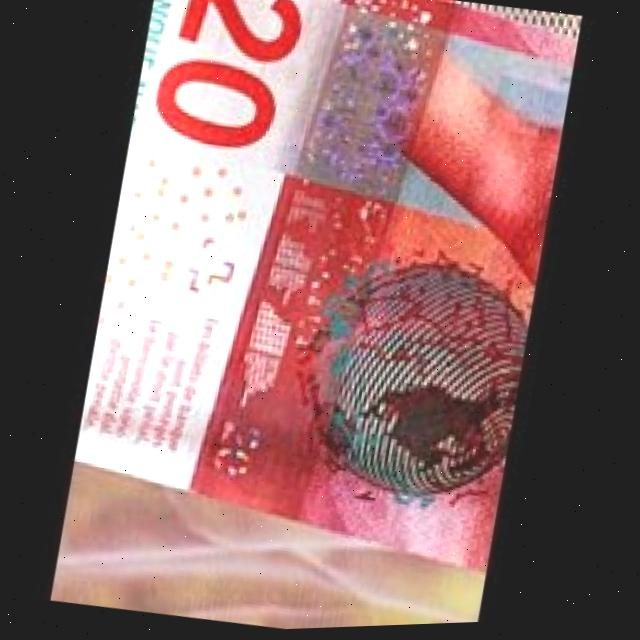banknote: (66, 0, 584, 591), (147, 0, 314, 169)
